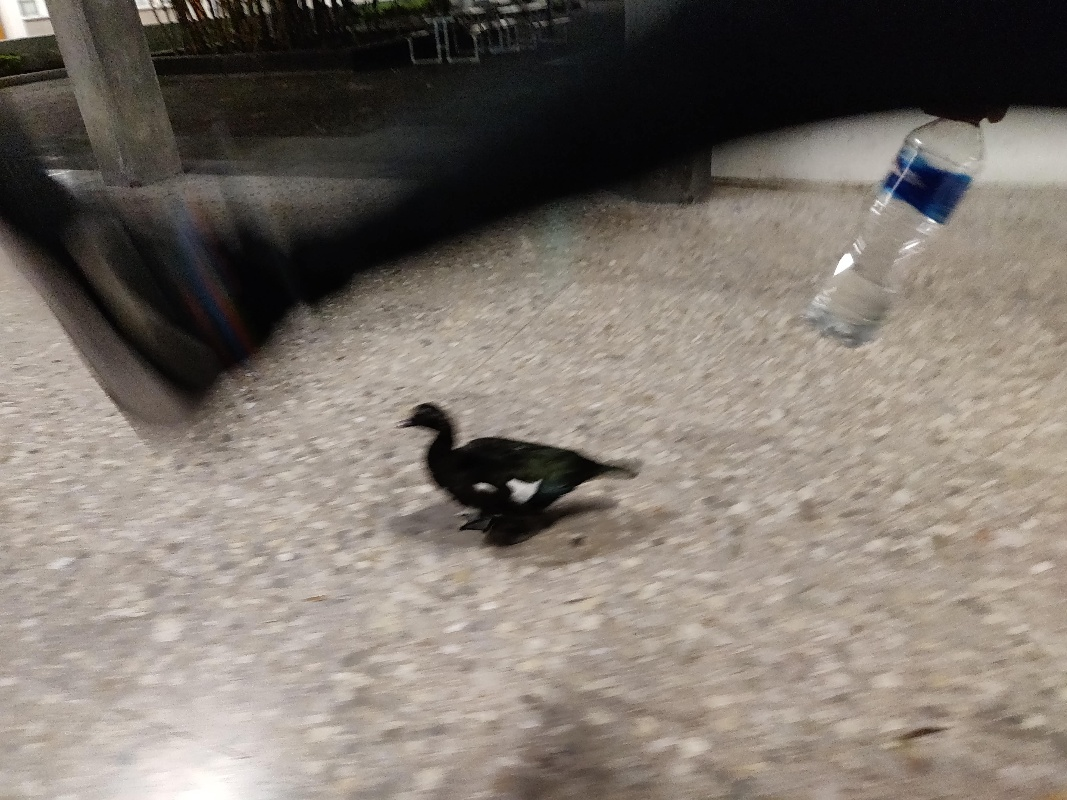pato: (401, 403, 602, 532)
